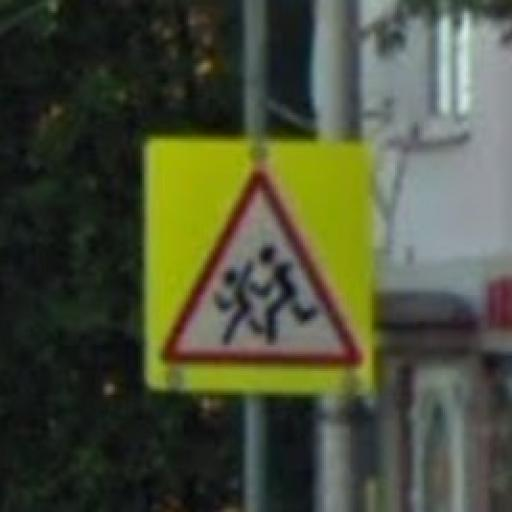traffic_sign: (161, 168, 366, 368)
